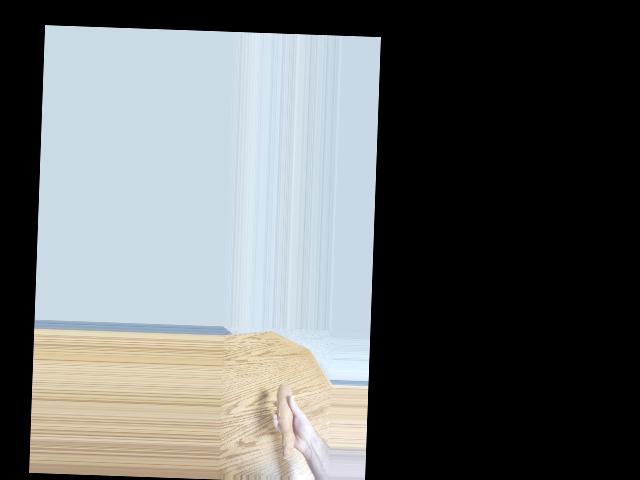sweet_potato: (274, 379, 300, 462)
